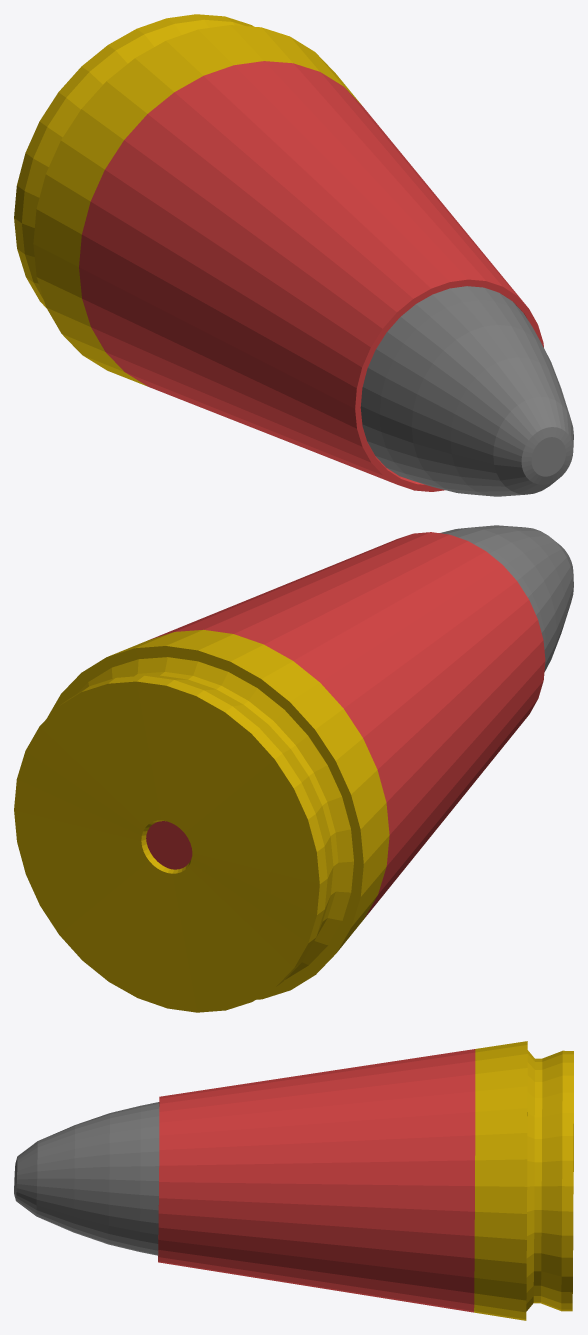
Rendered from bullet.fbx.
3 renders of one model, top to bottom at view 1: azimuth 30°, elevation 25°; view 2: azimuth 150°, elevation 25°; view 3: azimuth 270°, elevation 25°, orthographic. The views are drawn at different scales.
Parts seen in each view (by area): view 1: shell, bullet; view 2: shell, bullet; view 3: shell, bullet.
Boxes of the visible parts, x1,y1,x2,y2 form: shell: (14, 14, 543, 491); bullet: (360, 286, 573, 496); shell: (14, 532, 545, 1012); bullet: (439, 525, 573, 671); shell: (158, 1041, 573, 1320); bullet: (14, 1102, 159, 1255).
Bounding box in the file's own units: 2.13 × 2.13 × 4.26.
